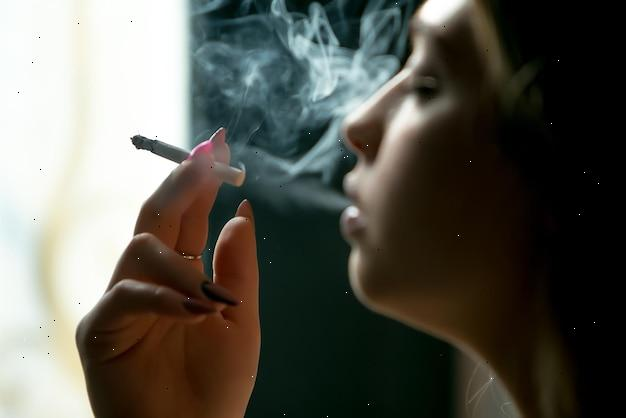cigarette: (131, 135, 189, 162)
